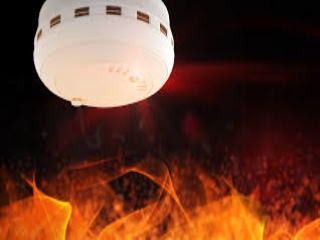fire: (10, 173, 314, 240)
